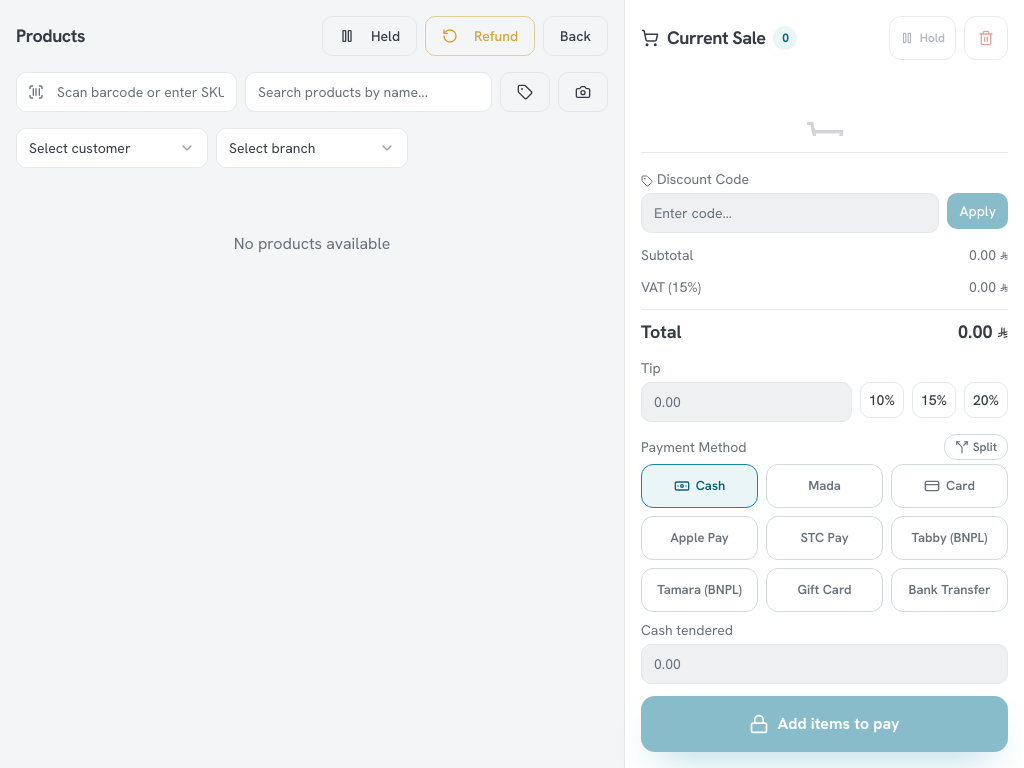
POSTerminal checkout controls a11y (#226) › gives the redeem-points input an accessible name
The redeem field only appears once a named customer is selected.
Step 1. Click the dropdown labelled "Select customer" → click(112, 148), box [16,128,208,168]
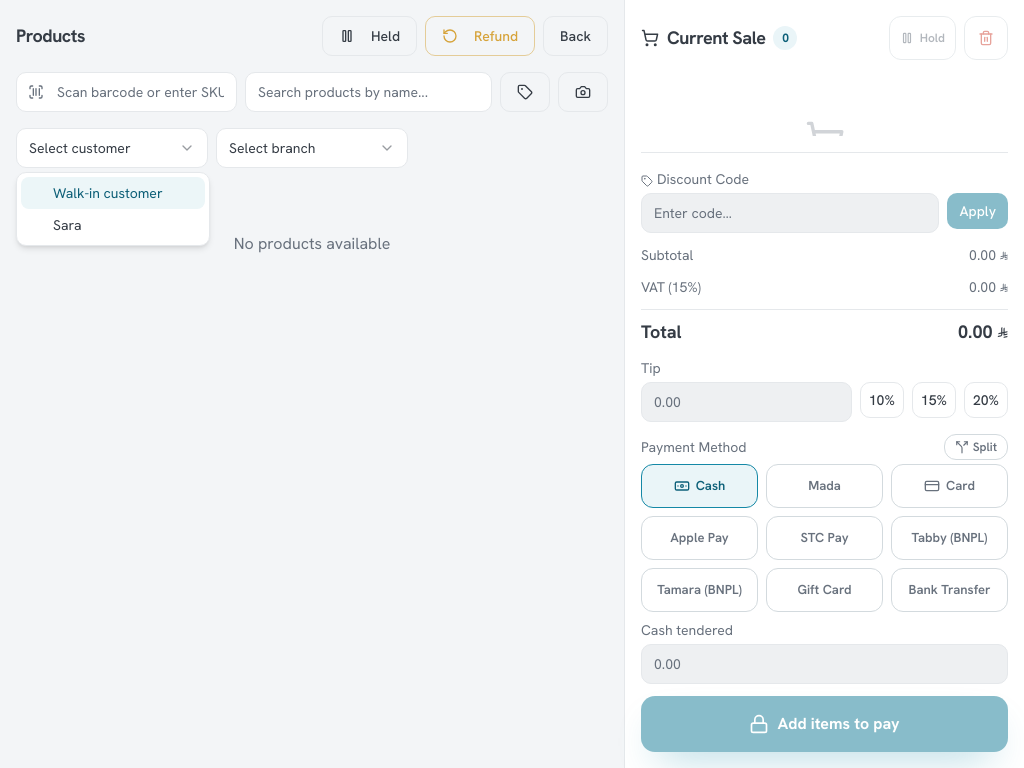
Step 2. Click the option "Sara" → click(67, 225), box [53,216,82,234]
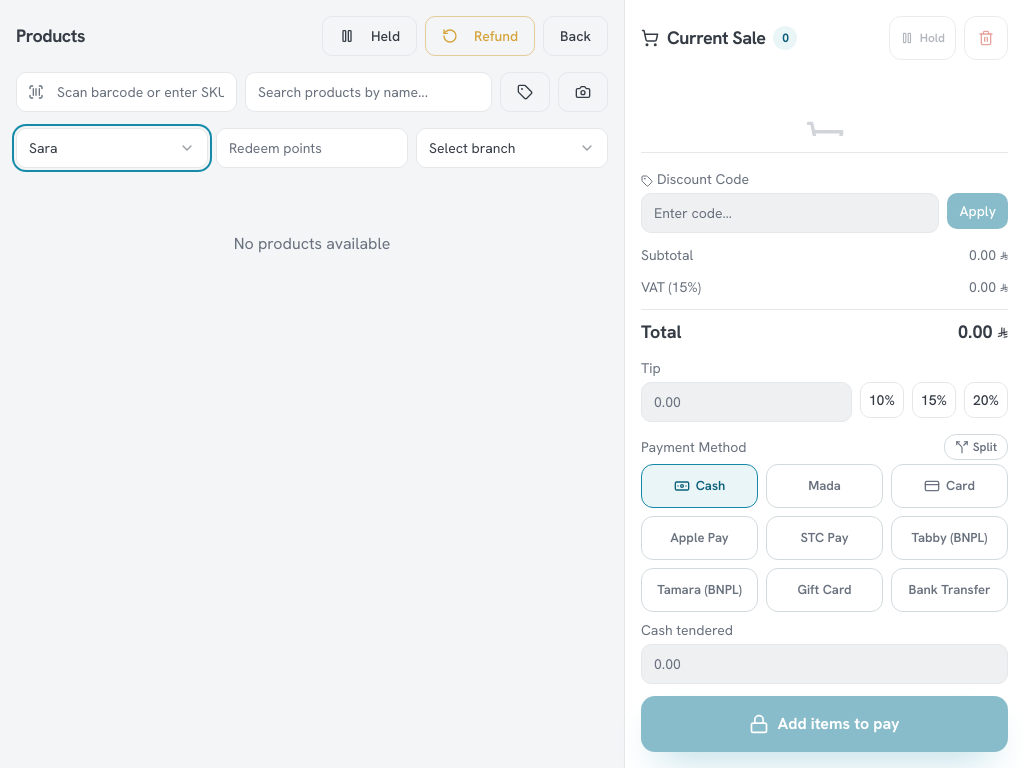
Expected: the number field labelled "Redeem points" is shown, [216,128,408,168]
